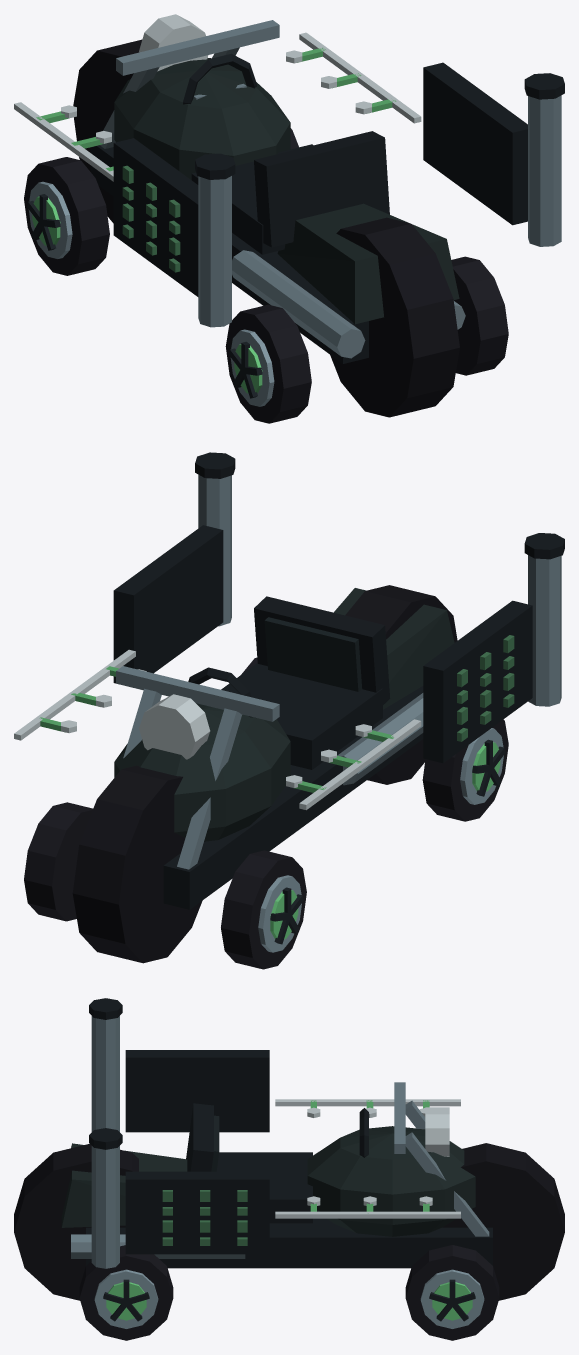
File: kart.glb
3 views of the same model, one above another, from view 1: azimuth 30°, elevation 25°; view 2: azimuth 150°, elevation 25°; view 3: azimuth 270°, elevation 25° (orthographic). The views are drawn at different scales.
Parts seen in each view (by area): view 1: identity-motorbike-motorbike-tank-and-fork, identity-motorbike-motif-matrix, identity-motorbike-driver-cockpit, identity-motorbike-motif-exhaust, wheel-front-left, wheel-rear-left, wheel-rear-right, identity-motorbike-motif-circuit; view 2: identity-motorbike-motorbike-tank-and-fork, identity-motorbike-motif-matrix, identity-motorbike-driver-cockpit, identity-motorbike-motif-exhaust, wheel-front-left, wheel-front-right, wheel-rear-left, identity-motorbike-motif-circuit; view 3: identity-motorbike-motorbike-tank-and-fork, identity-motorbike-motif-matrix, identity-motorbike-motif-exhaust, wheel-front-right, wheel-rear-right, identity-motorbike-driver-cockpit, identity-motorbike-motif-circuit.
Boxes of the visible parts, box(x1,y1,x2,y2) form: identity-motorbike-motorbike-tank-and-fork: box(73, 14, 465, 417); identity-motorbike-motif-matrix: box(113, 62, 527, 296); identity-motorbike-driver-cockpit: box(183, 53, 389, 254); identity-motorbike-motif-exhaust: box(195, 73, 564, 327); wheel-front-left: box(24, 157, 109, 275); wheel-rear-left: box(225, 304, 311, 423); wheel-rear-right: box(451, 256, 508, 375); identity-motorbike-motif-circuit: box(14, 32, 421, 181); identity-motorbike-motorbike-tank-and-fork: box(72, 585, 457, 963); identity-motorbike-motif-matrix: box(113, 525, 532, 763); identity-motorbike-driver-cockpit: box(188, 596, 390, 769); identity-motorbike-motif-exhaust: box(195, 452, 564, 706); wheel-front-left: box(221, 850, 306, 969); wheel-front-right: box(24, 802, 92, 921); wheel-rear-left: box(422, 719, 508, 821); identity-motorbike-motif-circuit: box(14, 649, 421, 810); identity-motorbike-motorbike-tank-and-fork: box(14, 1082, 564, 1300); identity-motorbike-motif-matrix: box(125, 1050, 269, 1254); identity-motorbike-motif-exhaust: box(89, 998, 122, 1268); wheel-front-right: box(405, 1245, 499, 1340); wheel-rear-right: box(79, 1245, 173, 1340); identity-motorbike-driver-cockpit: box(186, 1103, 368, 1223); identity-motorbike-motif-circuit: box(275, 1099, 460, 1218).
Size of the model in its own units: 1.82 by 1.33 by 2.94.
